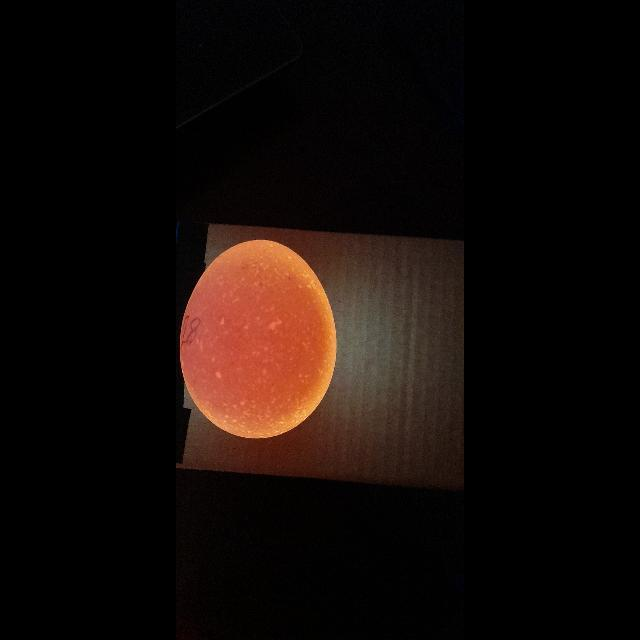A - Good: (180, 226, 338, 444)
